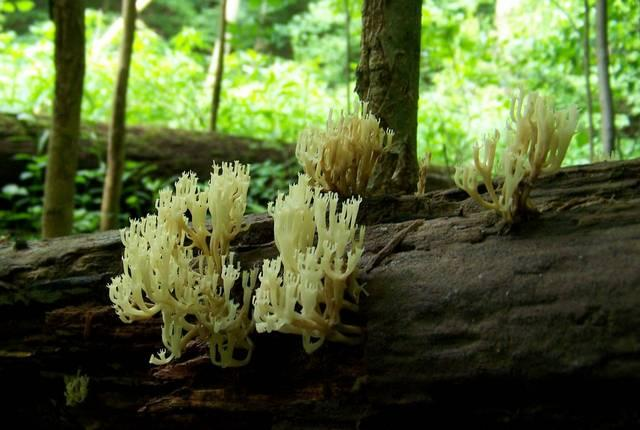edible_mushroom: (106, 158, 369, 368), (251, 172, 368, 354), (452, 88, 579, 231), (294, 99, 395, 198)
